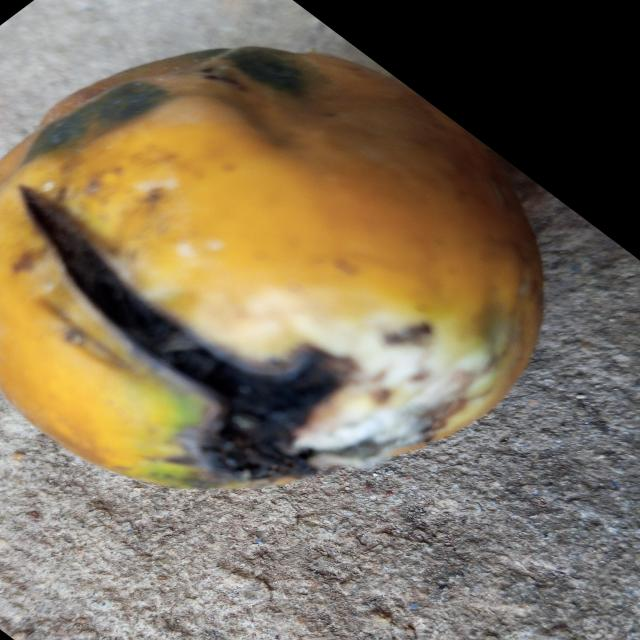damaged: (0, 46, 545, 492)
